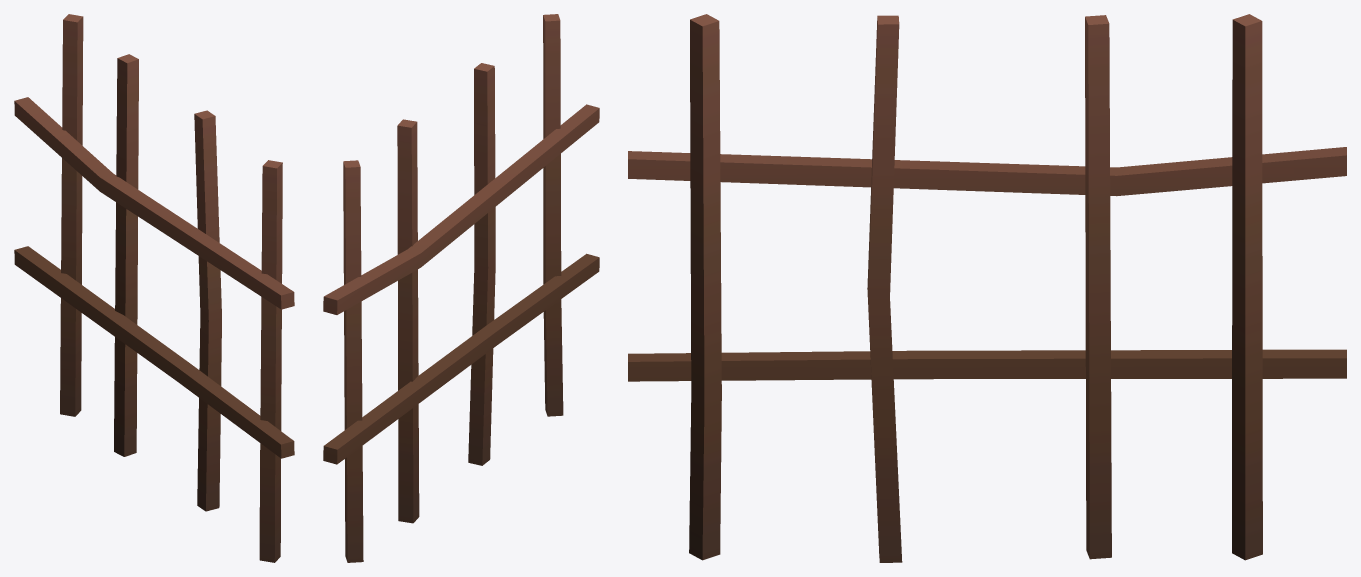
File: RreinforcingBars_A_3.fbx
The picture shows the model from 3 angles, left to right: view 1: azimuth 30°, elevation 25°; view 2: azimuth 150°, elevation 25°; view 3: azimuth 270°, elevation 25°; orthographic projection. The views are drawn at different scales.
Visible parts, largest first — view 1: RreinforcingBars_A_3; view 2: RreinforcingBars_A_3; view 3: RreinforcingBars_A_3.
Boxes of the visible parts, x1,y1,x2,y2 form: RreinforcingBars_A_3: [14, 14, 294, 562]; RreinforcingBars_A_3: [323, 14, 599, 562]; RreinforcingBars_A_3: [628, 14, 1346, 562].
Bounding box in the file's own units: 5.31 × 59.8 × 72.76.
